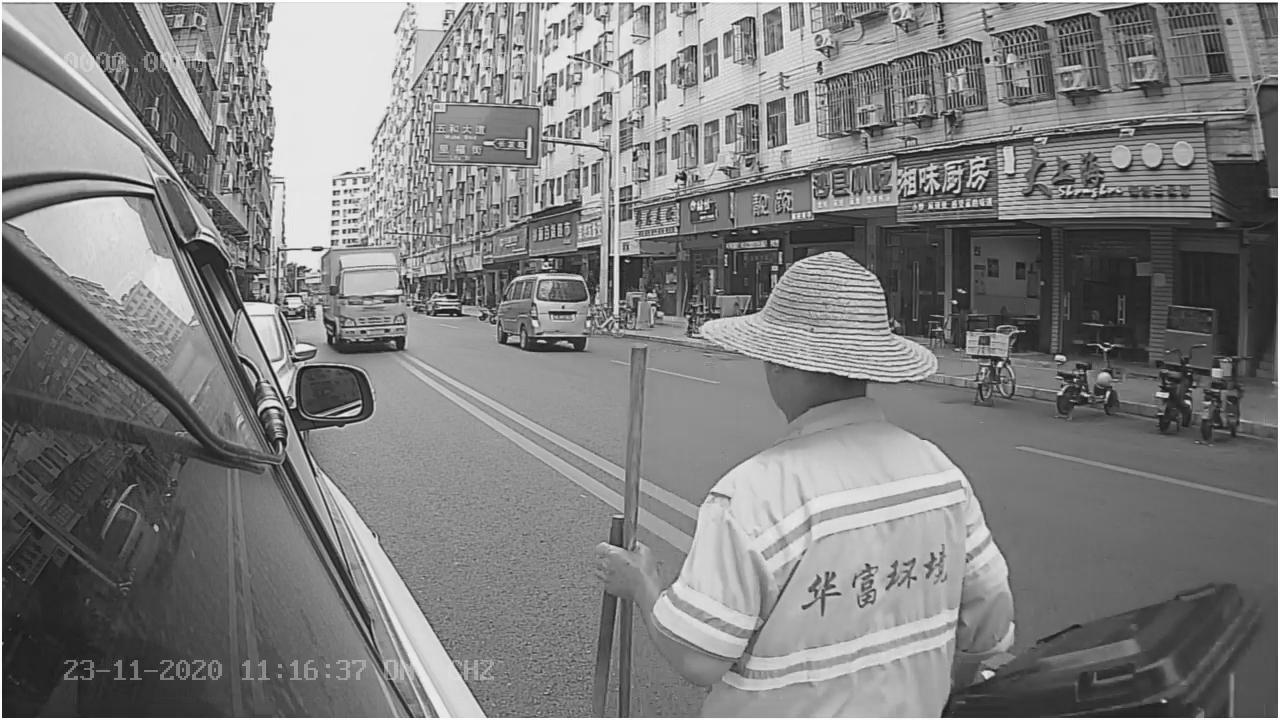person: (650, 242, 1025, 707)
